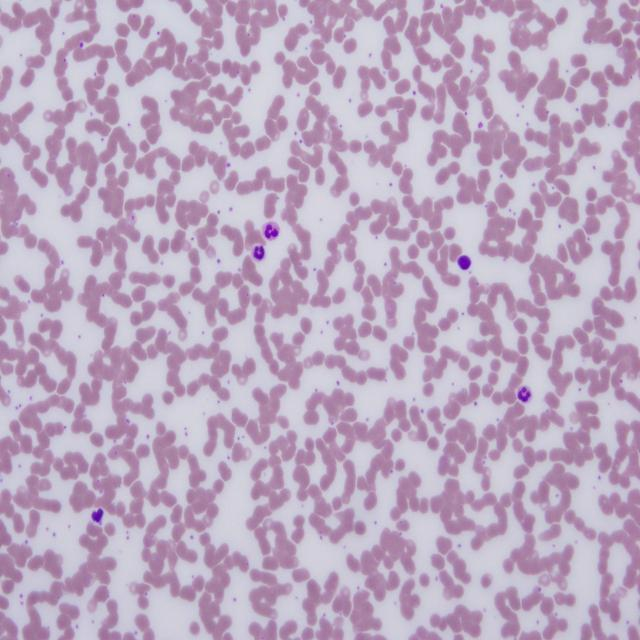cell: (262, 222, 279, 239), (518, 386, 531, 403), (252, 245, 265, 260)
